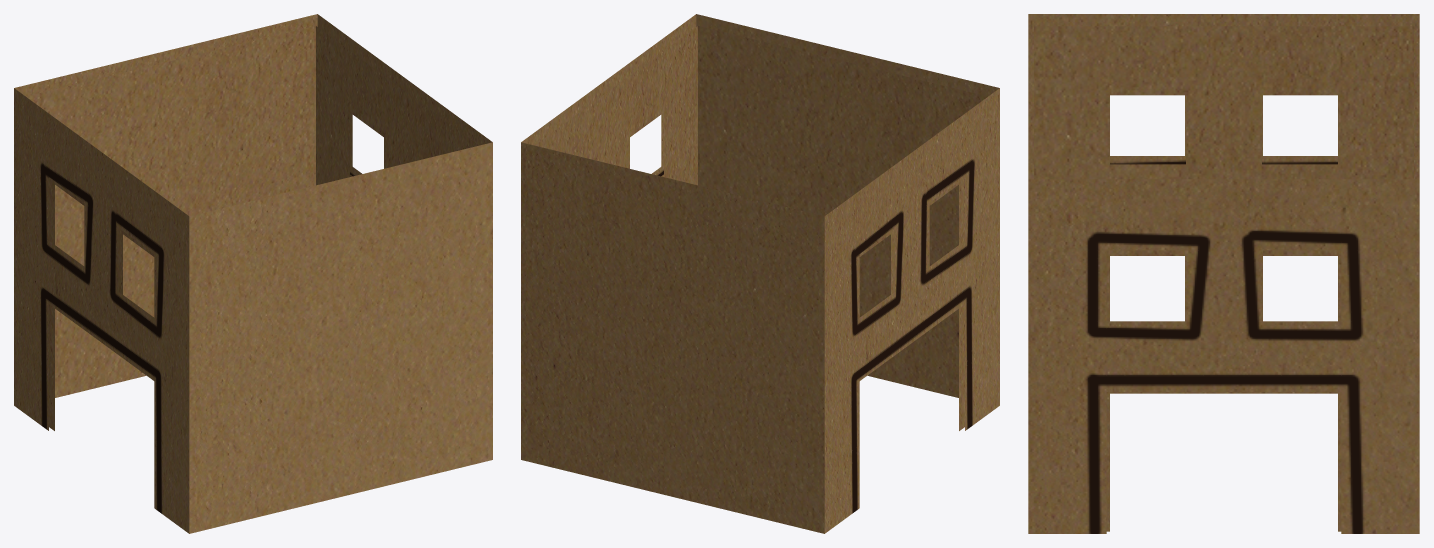
The model's file is building.FBX.
The picture shows the model from 3 angles, left to right: view 1: azimuth 30°, elevation 25°; view 2: azimuth 150°, elevation 25°; view 3: azimuth 270°, elevation 25°; orthographic projection. The views are drawn at different scales.
Parts seen in each view (by area): view 1: Box01, Box02; view 2: Box01, Box02; view 3: Box01, Box02.
Boxes of the visible parts, left/top/right/bottom form: Box01: left=14, top=14, right=492, bottom=533; Box02: left=26, top=26, right=478, bottom=430; Box01: left=521, top=14, right=999, bottom=533; Box02: left=535, top=26, right=987, bottom=430; Box01: left=1028, top=14, right=1419, bottom=533; Box02: left=1034, top=26, right=1413, bottom=531.
Size of the model in its own units: 6 by 6 by 6.
